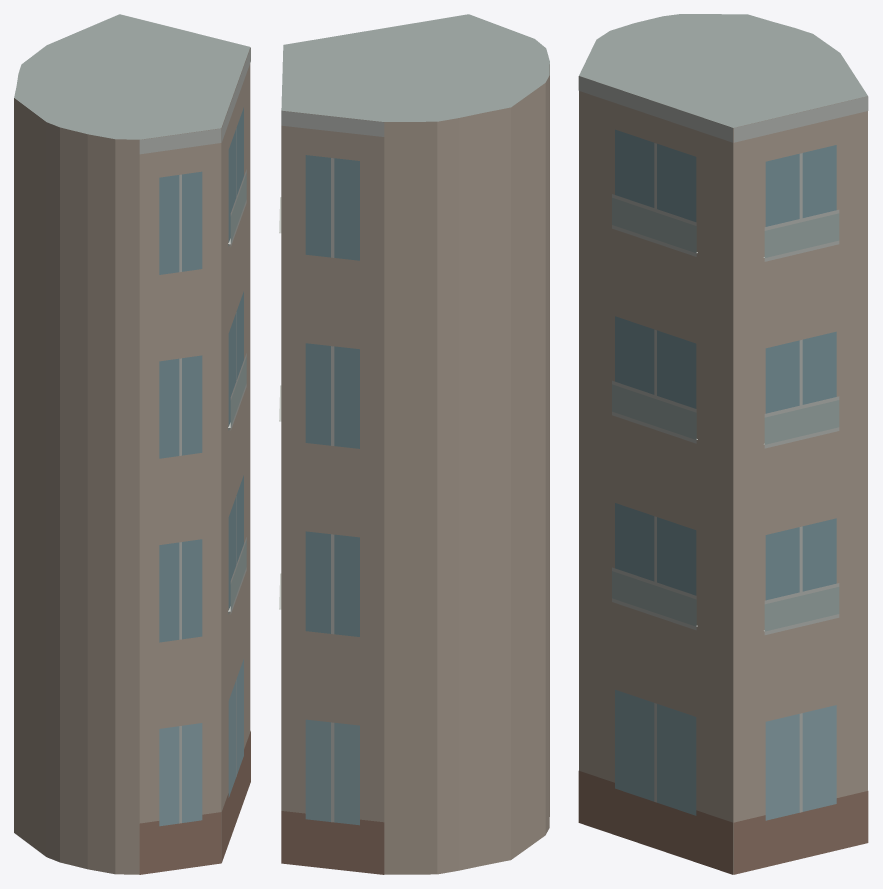
Rendered from survey-upis-32469372.glb.
3 renders of one model, left to right at view 1: azimuth 30°, elevation 25°; view 2: azimuth 150°, elevation 25°; view 3: azimuth 270°, elevation 25°, orthographic. The views are drawn at different scales.
Parts seen in each view (by area): view 1: survey-upis-32469372.tmp; view 2: survey-upis-32469372.tmp; view 3: survey-upis-32469372.tmp.
Part boxes in pixels (x1,y1,x2,y2): survey-upis-32469372.tmp: (14,14,250,874); survey-upis-32469372.tmp: (279,14,549,874); survey-upis-32469372.tmp: (578,14,868,874).
Size of the model in its own units: 4 by 12.2 by 4.29.
